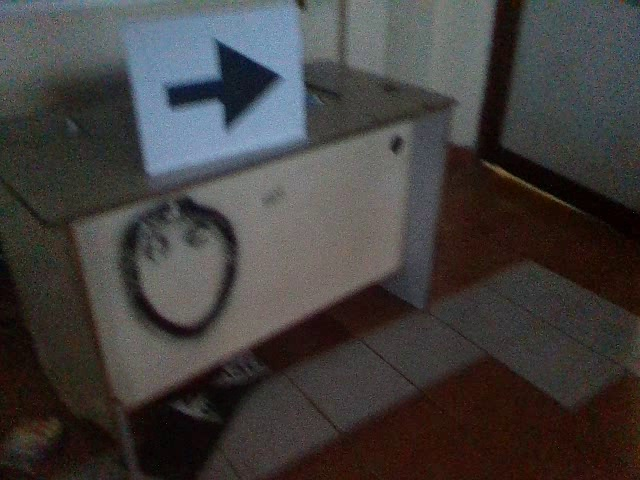Right: (161, 36, 292, 138)
